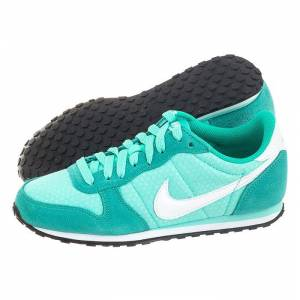nike: (154, 157, 274, 223)
